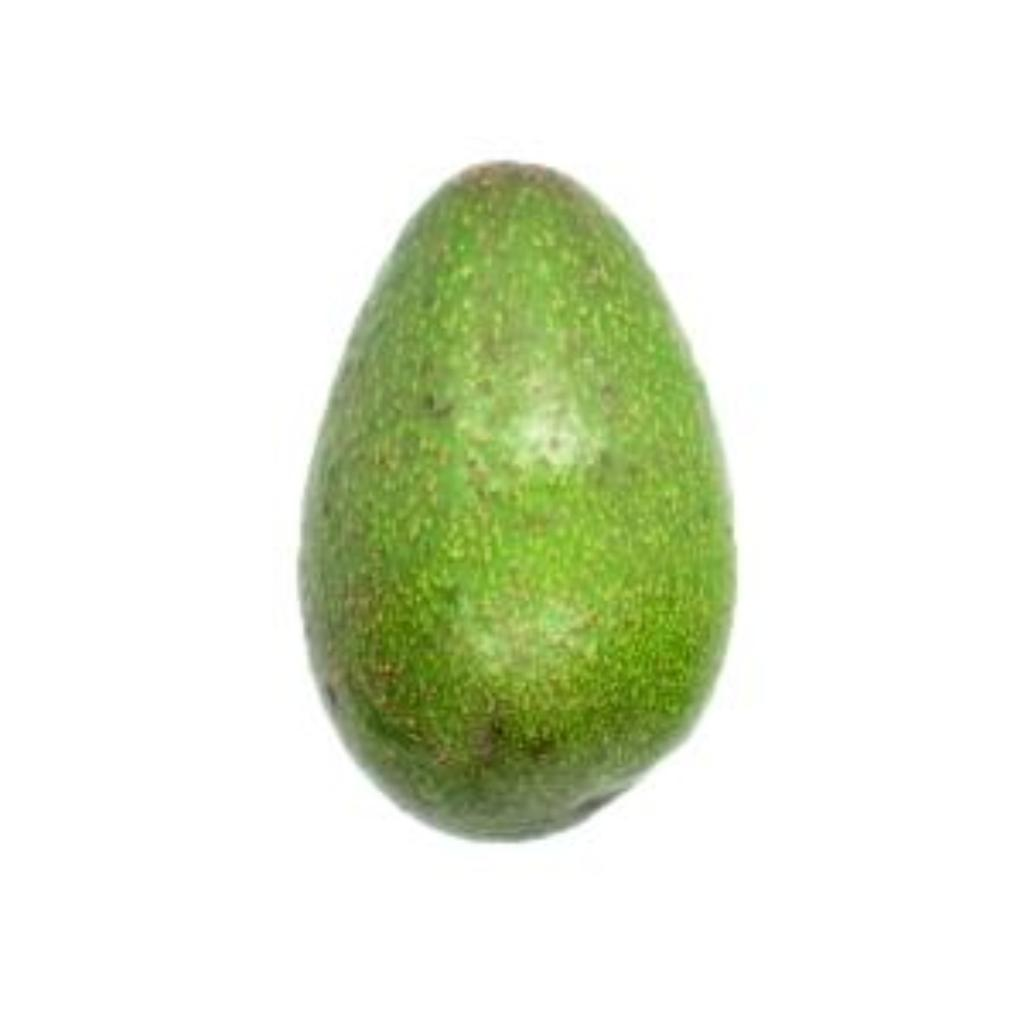cercospora: (306, 121, 753, 841)
